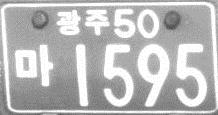0: (137, 7, 159, 39)
1: (74, 42, 90, 106)
5: (174, 42, 208, 108), (102, 42, 134, 107), (112, 8, 137, 38)
9: (136, 42, 171, 109)
광주_O: (55, 7, 111, 37)
마: (13, 41, 55, 89)
